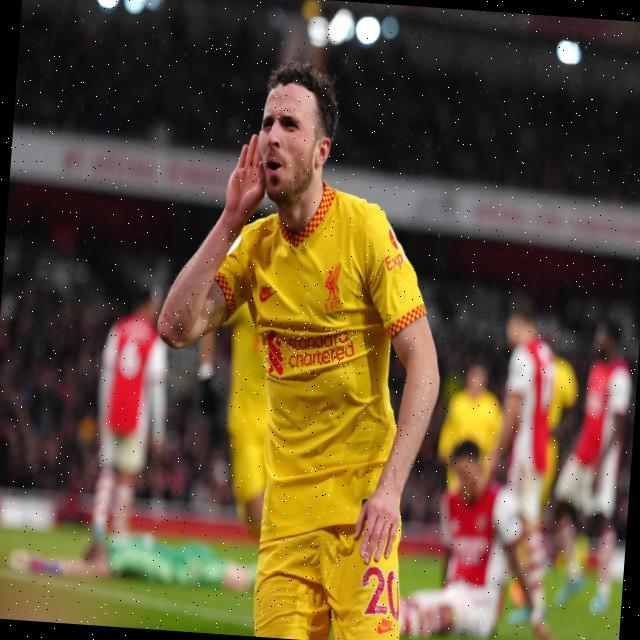Standard Chartered: (261, 323, 357, 385)
